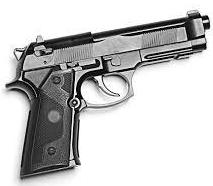gun: (1, 1, 213, 186)
